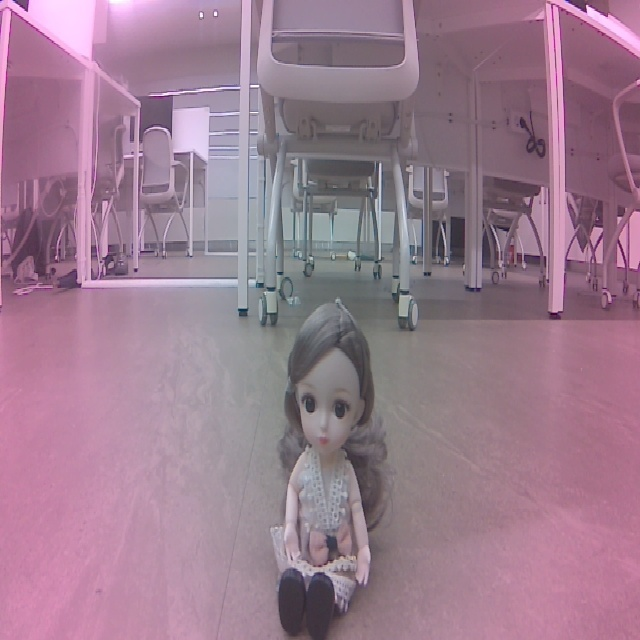장애물: (336, 271, 475, 589)
